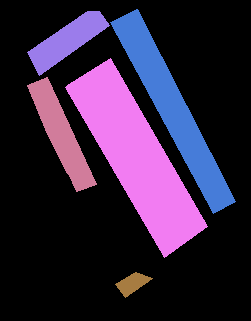parkingspot: (65, 58, 207, 257), (110, 9, 235, 213), (27, 77, 96, 191), (27, 11, 109, 75), (115, 272, 152, 297)
